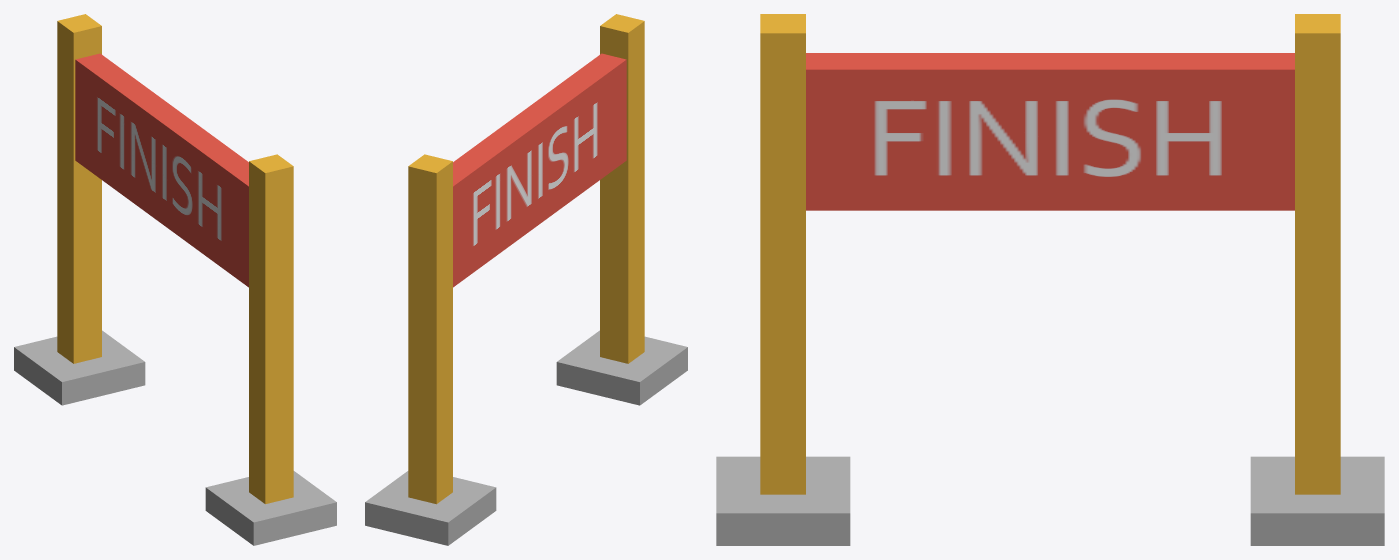
File: FinishTable (1).fbx
3 views of the same model, side by side, from view 1: azimuth 30°, elevation 25°; view 2: azimuth 150°, elevation 25°; view 3: azimuth 270°, elevation 25° (orthographic). The views are drawn at different scales.
Visible parts, largest first — view 1: FinishTable; view 2: FinishTable; view 3: FinishTable.
Part boxes in pixels (left/top/right/bottom): FinishTable: left=14, top=14, right=336, bottom=545; FinishTable: left=365, top=14, right=687, bottom=545; FinishTable: left=716, top=14, right=1384, bottom=545.
Size of the model in its own units: 200 by 814 by 998.
